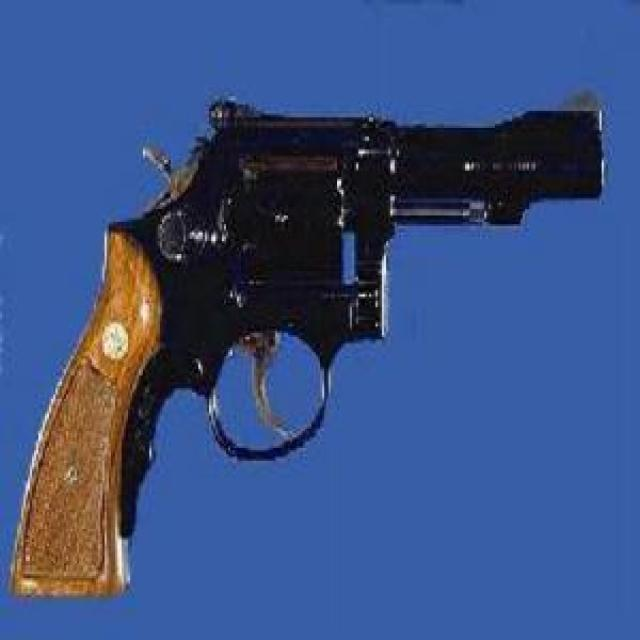pistol: (6, 88, 604, 594)
